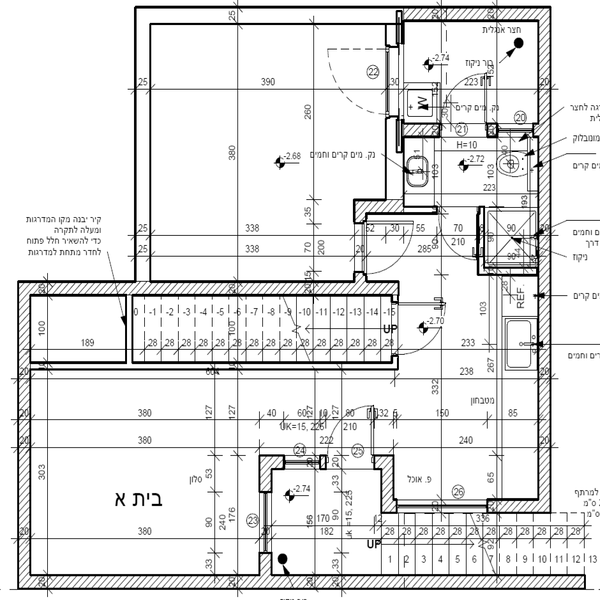door: (318, 46, 401, 122), (396, 296, 447, 363), (327, 396, 381, 459), (434, 204, 483, 266), (363, 217, 409, 278)
room: (13, 274, 281, 589), (347, 195, 560, 517), (398, 9, 554, 197)
wall: (25, 564, 600, 593), (533, 1, 553, 511), (15, 278, 401, 304), (19, 266, 37, 591), (365, 451, 405, 515), (405, 7, 538, 24), (353, 193, 413, 225), (257, 453, 287, 496), (487, 494, 537, 518), (398, 124, 448, 138)
